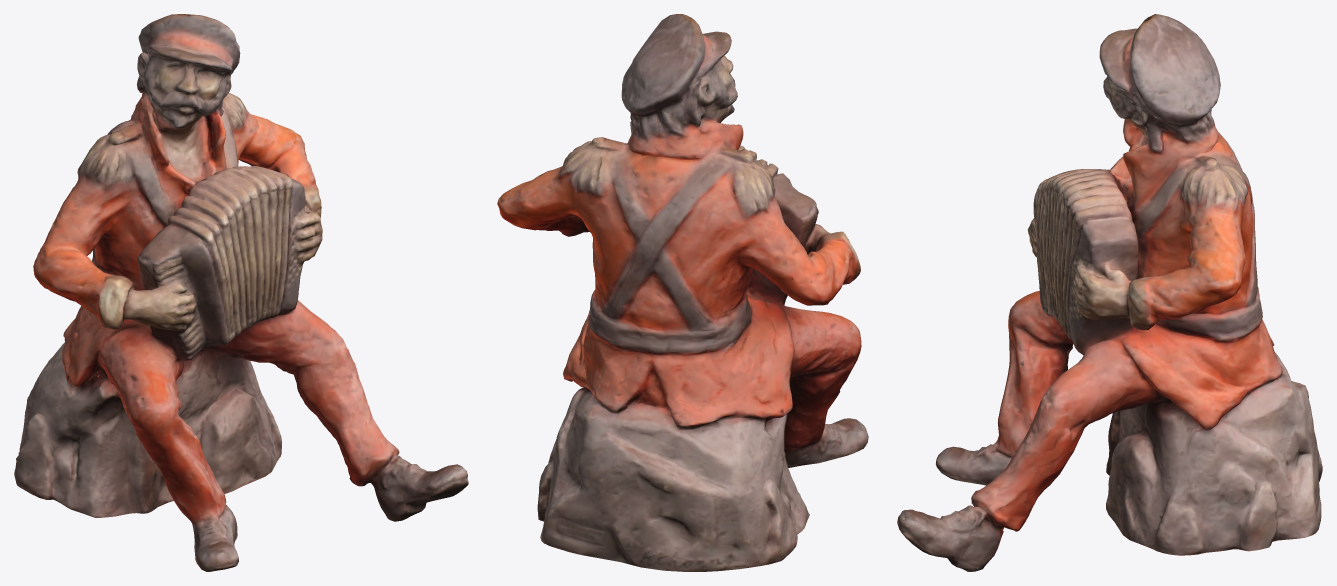
Rendered from khanna-retd-captain-ramesh-kumar-accordian-walae.glb.
The picture shows the model from 3 angles, left to right: view 1: azimuth 30°, elevation 25°; view 2: azimuth 150°, elevation 25°; view 3: azimuth 270°, elevation 25°; orthographic projection. The views are drawn at different scales.
Parts seen in each view (by area): view 1: sculptureB_002; view 2: sculptureB_002; view 3: sculptureB_002.
Boxes of the visible parts, <box> form: sculptureB_002: <box>14,14,468,571</box>; sculptureB_002: <box>497,14,868,571</box>; sculptureB_002: <box>897,14,1322,571</box>.
Bounding box in the file's own units: 0.347 × 0.5 × 0.3985.
Materials: 1 (1 with a texture image).
